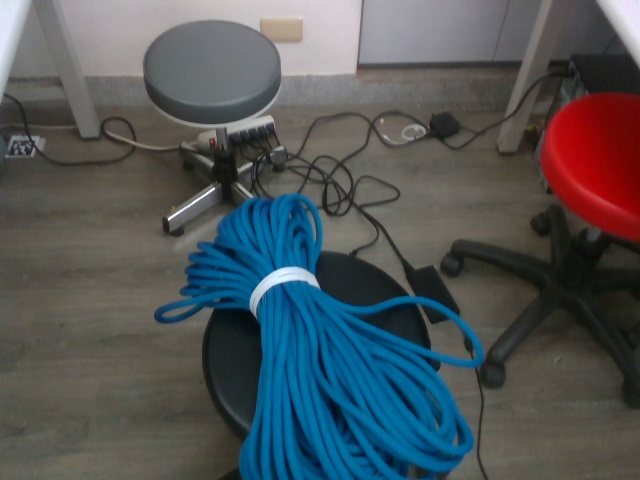rope: (149, 191, 489, 480)
